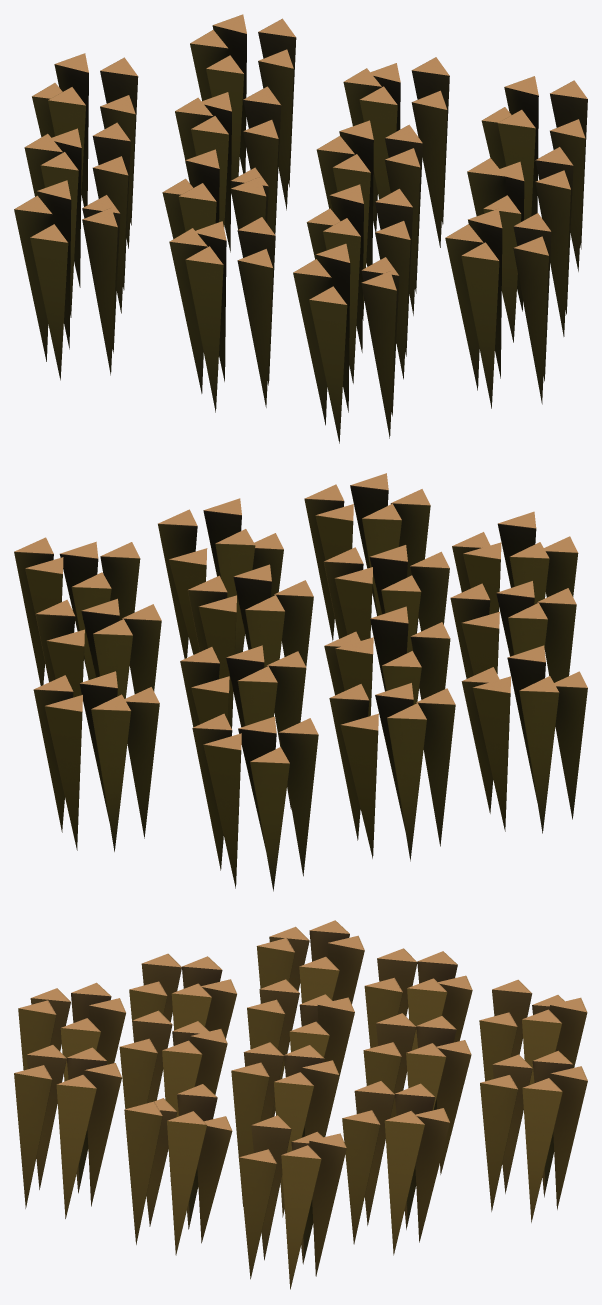
Rendered from Sce_worldmap_wheat_03.FBX.
The picture shows the model from 3 angles, top to bottom: view 1: azimuth 30°, elevation 25°; view 2: azimuth 150°, elevation 25°; view 3: azimuth 270°, elevation 25°; orthographic projection. The views are drawn at different scales.
Parts seen in each view (by area): view 1: Sce_worldmap_wheat_03; view 2: Sce_worldmap_wheat_03; view 3: Sce_worldmap_wheat_03.
Part boxes in pixels (x1,y1,x2,y2): Sce_worldmap_wheat_03: [14, 14, 587, 443]; Sce_worldmap_wheat_03: [14, 473, 587, 891]; Sce_worldmap_wheat_03: [14, 920, 587, 1289].
Bounding box in the file's own units: 54.87 × 14.48 × 55.08.
